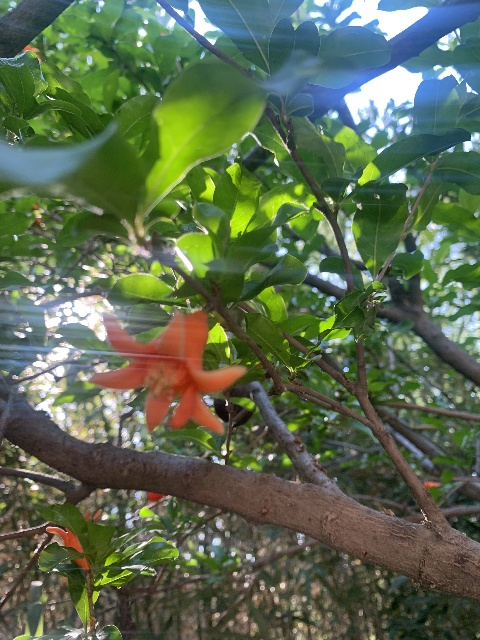flower: (88, 308, 245, 435), (46, 507, 101, 567)
